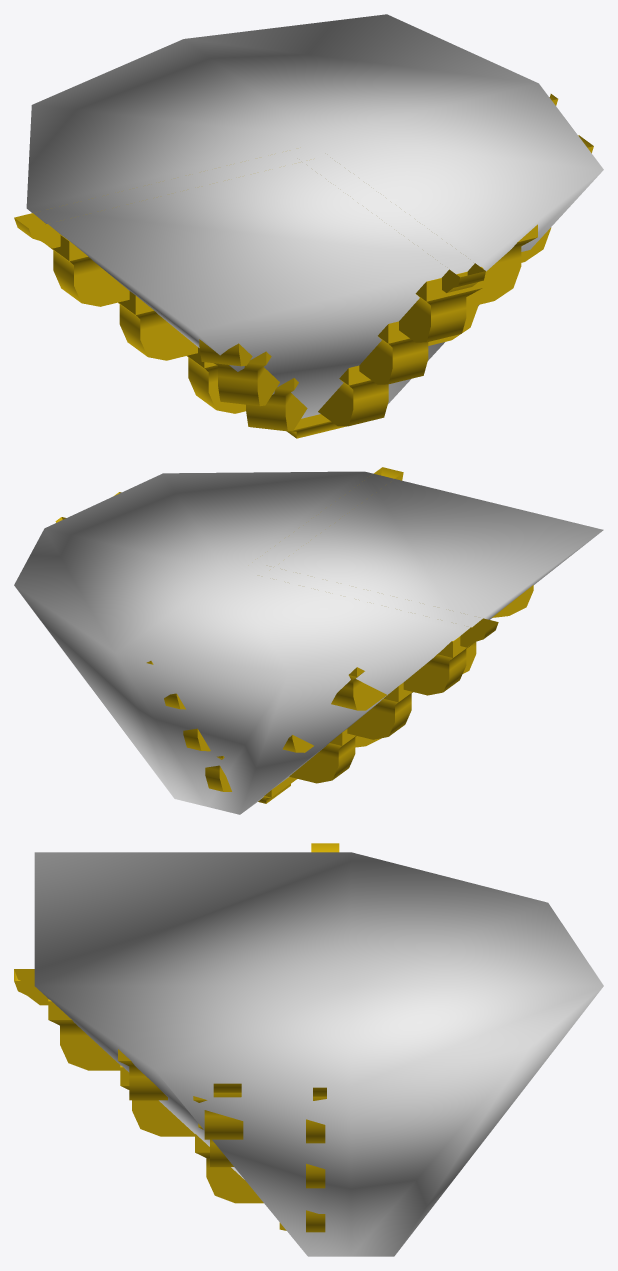
The model's file is Column_A_Kumimono_03_Corner.fbx.
3 renders of one model, top to bottom at view 1: azimuth 30°, elevation 25°; view 2: azimuth 150°, elevation 25°; view 3: azimuth 270°, elevation 25°, orthographic. The views are drawn at different scales.
Visible parts, largest first — view 1: C_Column_A_Kumimono_03_Corner, Column_A_Kumimono_03_Corner; view 2: C_Column_A_Kumimono_03_Corner, Column_A_Kumimono_03_Corner; view 3: C_Column_A_Kumimono_03_Corner, Column_A_Kumimono_03_Corner.
Part boxes in pixels (box(x1,y1,x2,y2)): C_Column_A_Kumimono_03_Corner: box(26, 14, 603, 418); Column_A_Kumimono_03_Corner: box(14, 94, 593, 438); C_Column_A_Kumimono_03_Corner: box(14, 471, 603, 814); Column_A_Kumimono_03_Corner: box(55, 467, 533, 803); C_Column_A_Kumimono_03_Corner: box(34, 852, 603, 1256); Column_A_Kumimono_03_Corner: box(14, 843, 339, 1232).
Size of the model in its own units: 2.4 by 1.22 by 2.46.
